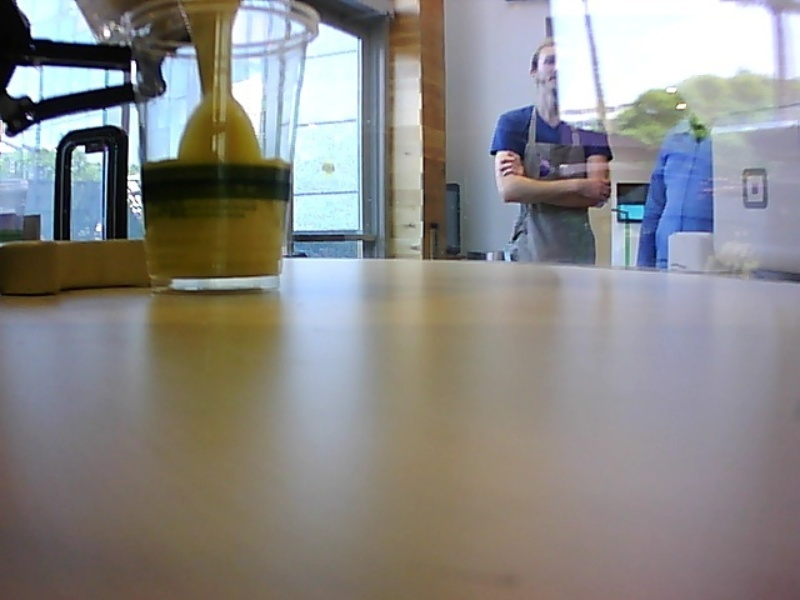cup: (117, 1, 326, 300)
limit: (137, 149, 297, 172)
